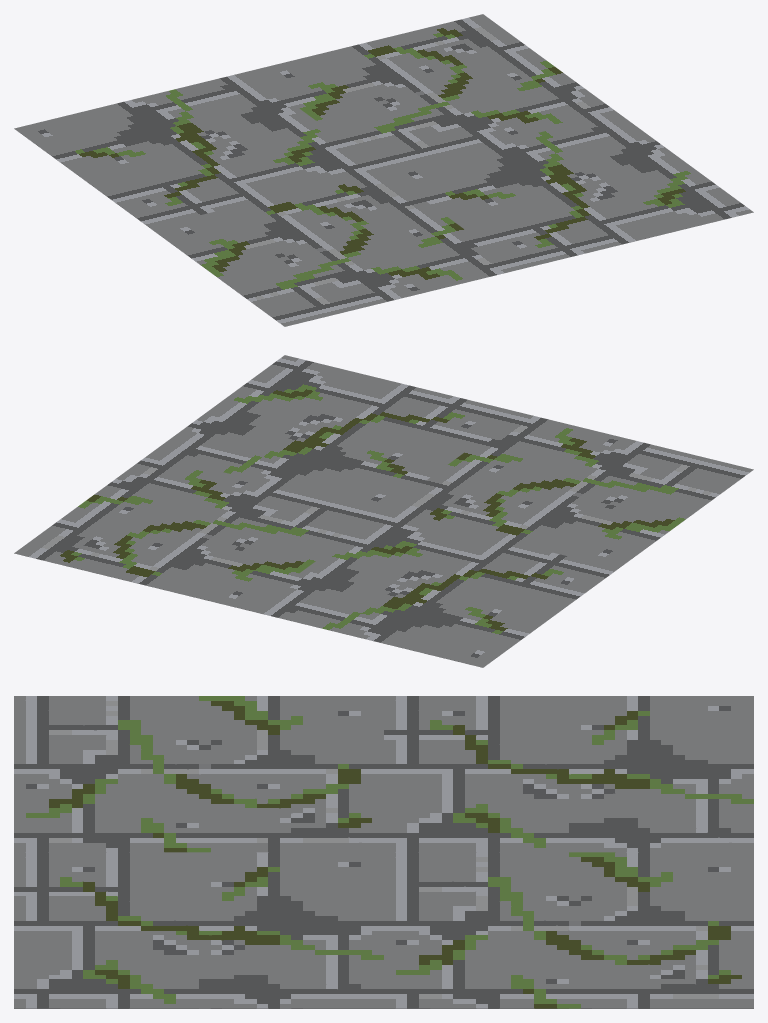
File: cement_floor.gltf
3 renders of one model, top to bottom at view 1: azimuth 30°, elevation 25°; view 2: azimuth 150°, elevation 25°; view 3: azimuth 270°, elevation 25°, orthographic. The views are drawn at different scales.
Parts seen in each view (by area): view 1: cube (×4); view 2: cube (×4); view 3: cube (×4).
Part boxes in pixels (left/top/right/bottom): cube (×4): left=14, top=14, right=753, bottom=326; cube (×4): left=14, top=355, right=753, bottom=667; cube (×4): left=14, top=696, right=753, bottom=1008.
Bounding box in the file's own units: 0.25 × 6.25e-05 × 0.25.
Materials: 3 (3 with a texture image).
